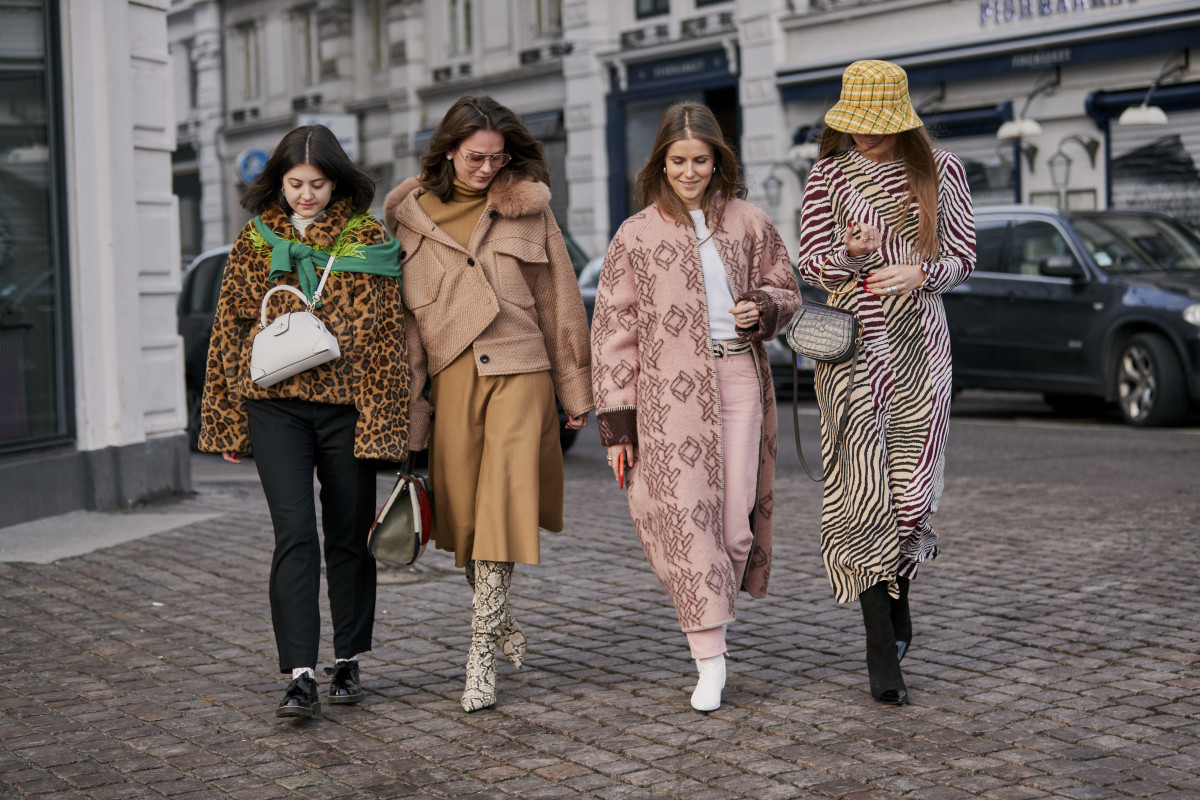Person: (173, 113, 433, 730), (786, 49, 996, 747), (571, 93, 803, 721), (390, 89, 613, 723)
